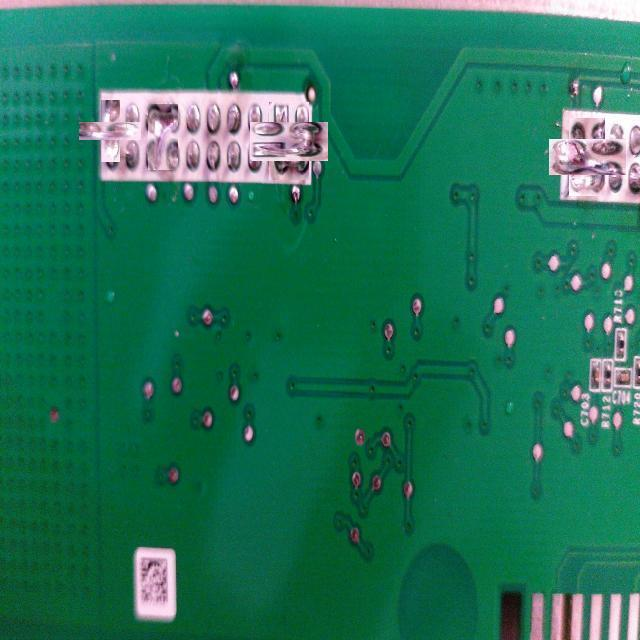Short_circuit: (260, 112, 318, 171), (558, 129, 616, 186), (147, 103, 178, 170), (90, 111, 131, 151)
